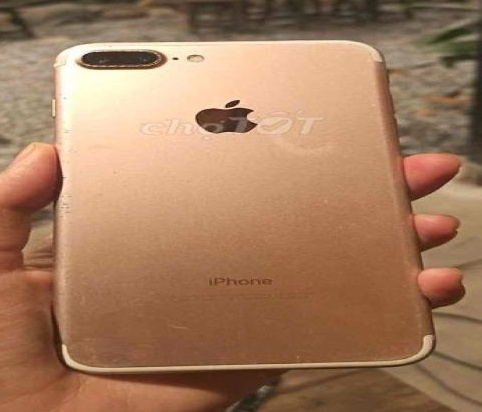scratch: (59, 45, 174, 71), (77, 326, 131, 365), (67, 285, 162, 307), (48, 171, 75, 226), (399, 292, 427, 335), (141, 318, 199, 333), (48, 121, 76, 144), (365, 79, 384, 112), (281, 352, 317, 365), (53, 82, 76, 102), (399, 250, 418, 270)
